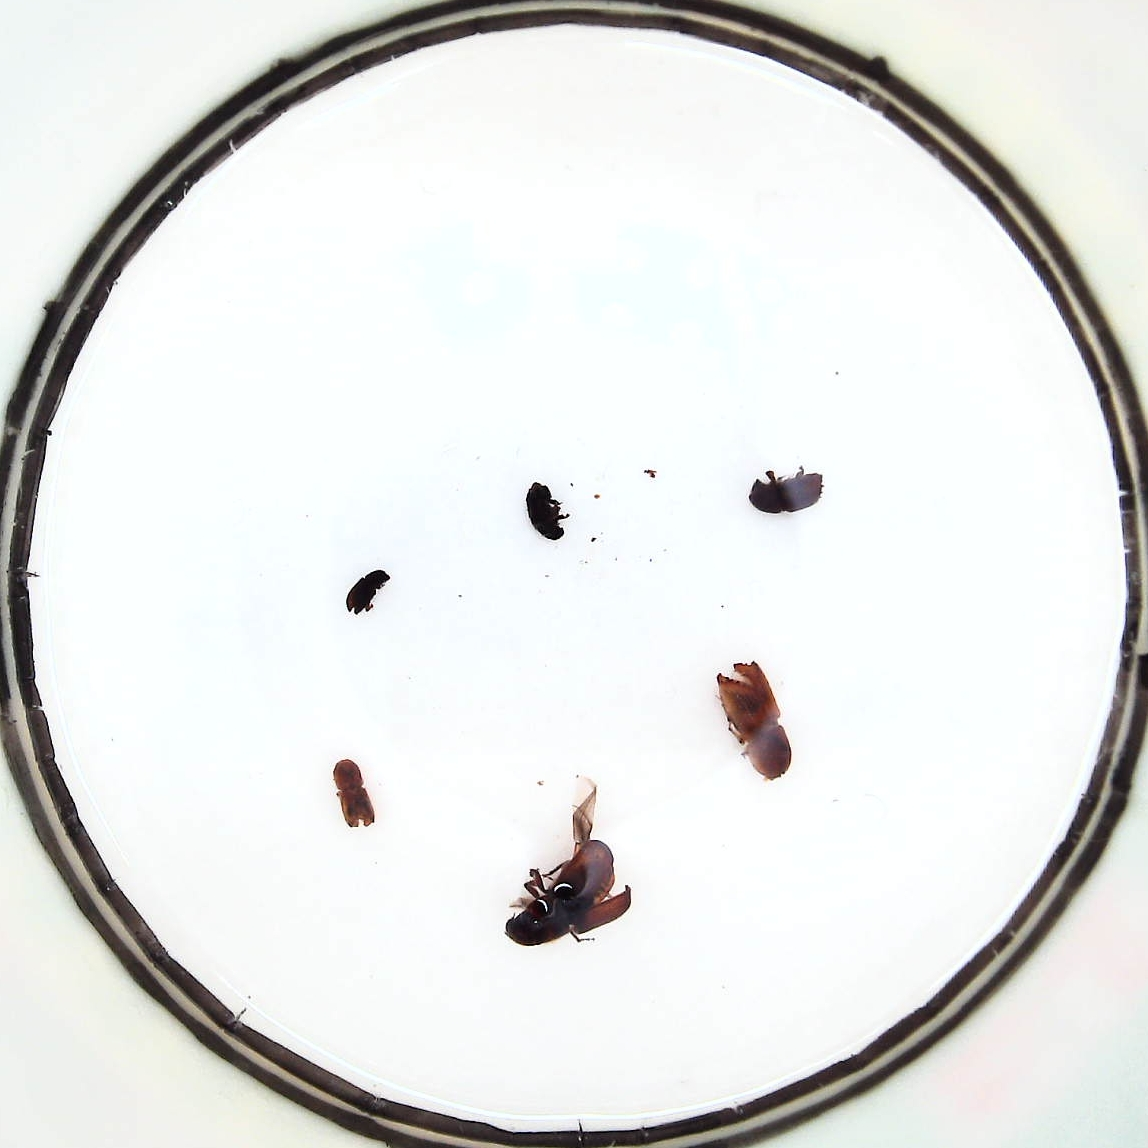Boerner: (717, 659, 792, 779)
Leconte: (505, 840, 634, 946)
acuminatus: (526, 481, 565, 540)
armandi: (334, 760, 377, 828)
coleoptera: (346, 569, 390, 614)
linnaeus: (749, 471, 823, 514)
